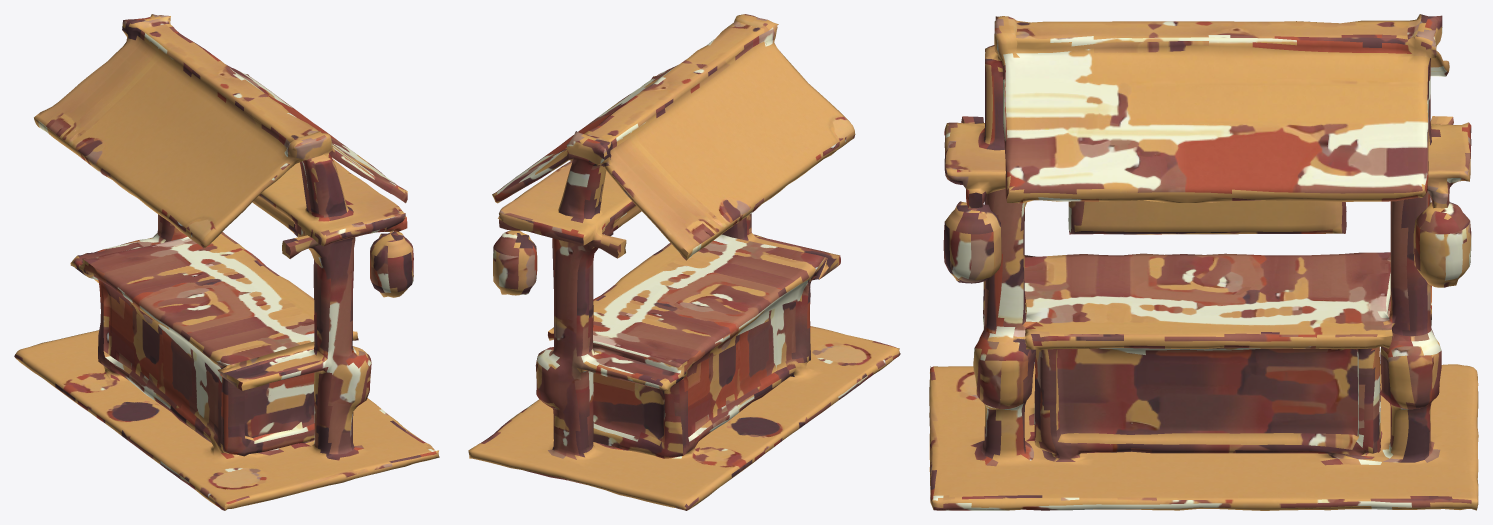
File: B01_MarketStall.fbx
The picture shows the model from 3 angles, left to right: view 1: azimuth 30°, elevation 25°; view 2: azimuth 150°, elevation 25°; view 3: azimuth 270°, elevation 25°; orthographic projection. The views are drawn at different scales.
Parts seen in each view (by area): view 1: tripo_node_b633e194; view 2: tripo_node_b633e194; view 3: tripo_node_b633e194.
Boxes of the visible parts, x1,y1,x2,y2 form: tripo_node_b633e194: [14, 14, 439, 510]; tripo_node_b633e194: [468, 14, 900, 510]; tripo_node_b633e194: [929, 14, 1478, 510].
Size of the model in its own units: 0.5844 by 0.834 by 0.9812.
